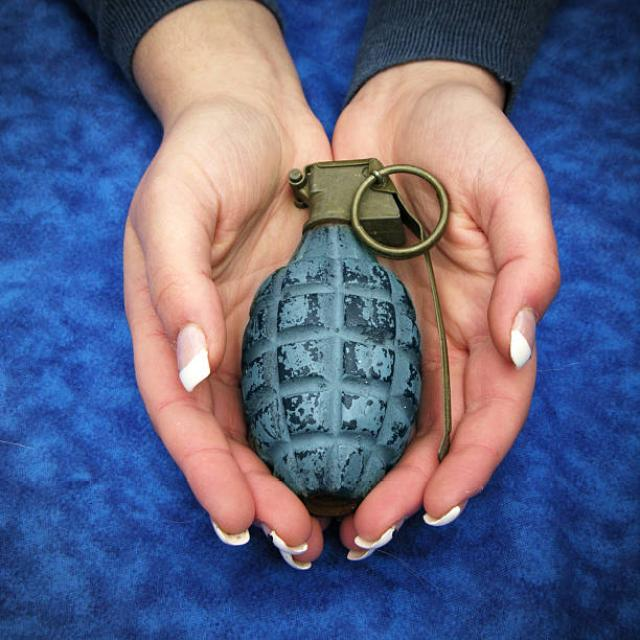grenade: (237, 156, 467, 525)
